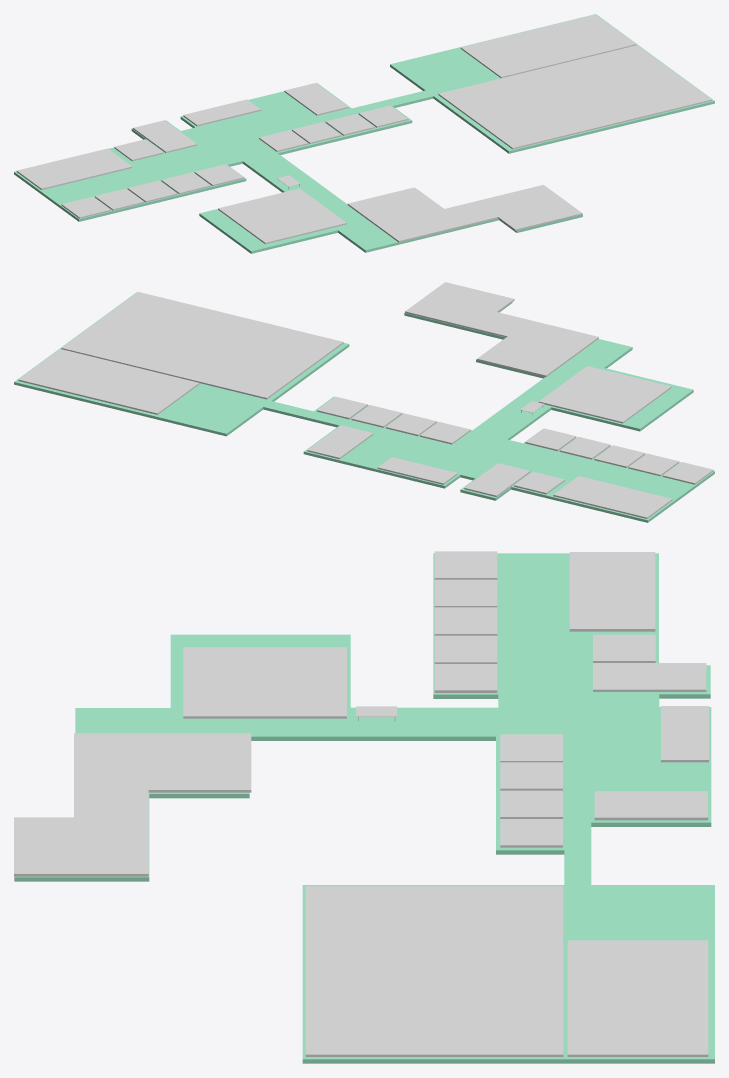
Rendered from schoolmap_2F.glb.
The picture shows the model from 3 angles, top to bottom: view 1: azimuth 30°, elevation 25°; view 2: azimuth 150°, elevation 25°; view 3: azimuth 270°, elevation 25°; orthographic projection. The views are drawn at different scales.
Visible parts, largest first — view 1: 2F, main, 220, sub, 225-2F, 218, 214, 210, 212, 203, 201, 202 (+7 smaller); view 2: 2F, main, 220, sub, 225-2F, 218, 210, 214, 212, 202, 201, 208 (+7 smaller); view 3: 2F, main, 220, sub, 225-2F, 218, 210, 214, 212, 205, 203, 201 (+7 smaller).
Part boxes in pixels (x1=…): 2F: x1=14, y1=14, x2=714, y2=253; main: x1=438, y1=45, x2=711, y2=149; 220: x1=347, y1=185, x2=582, y2=242; sub: x1=460, y1=14, x2=636, y2=78; 225-2F: x1=218, y1=188, x2=346, y2=244; 218: x1=16, y1=148, x2=132, y2=189; 214: x1=133, y1=120, x2=197, y2=152; 210: x1=284, y1=83, x2=348, y2=115; 212: x1=183, y1=99, x2=260, y2=126; 203: x1=127, y1=180, x2=177, y2=202; 201: x1=61, y1=196, x2=110, y2=218; 202: x1=95, y1=188, x2=144, y2=210; 2F: x1=14, y1=292, x2=714, y2=522; main: x1=61, y1=292, x2=343, y2=399; 220: x1=405, y1=282, x2=598, y2=376; sub: x1=18, y1=349, x2=199, y2=414; 225-2F: x1=538, y1=366, x2=671, y2=423; 218: x1=553, y1=476, x2=672, y2=518; 210: x1=307, y1=425, x2=373, y2=459; 214: x1=464, y1=463, x2=530, y2=496; 212: x1=377, y1=457, x2=457, y2=484; 202: x1=628, y1=453, x2=679, y2=476; 201: x1=662, y1=462, x2=713, y2=484; 208: x1=351, y1=405, x2=402, y2=427; 2F: x1=14, y1=553, x2=714, y2=1063; main: x1=305, y1=886, x2=563, y2=1056; 220: x1=14, y1=733, x2=251, y2=876; sub: x1=567, y1=940, x2=708, y2=1056; 225-2F: x1=183, y1=647, x2=346, y2=718; 218: x1=569, y1=552, x2=655, y2=631; 210: x1=594, y1=791, x2=707, y2=820; 214: x1=593, y1=663, x2=706, y2=691; 212: x1=661, y1=706, x2=708, y2=762; 205: x1=434, y1=664, x2=497, y2=692; 203: x1=434, y1=607, x2=497, y2=635; 201: x1=434, y1=551, x2=497, y2=579.
Size of the model in its own units: 13.43 by 0.1228 by 7.86.
